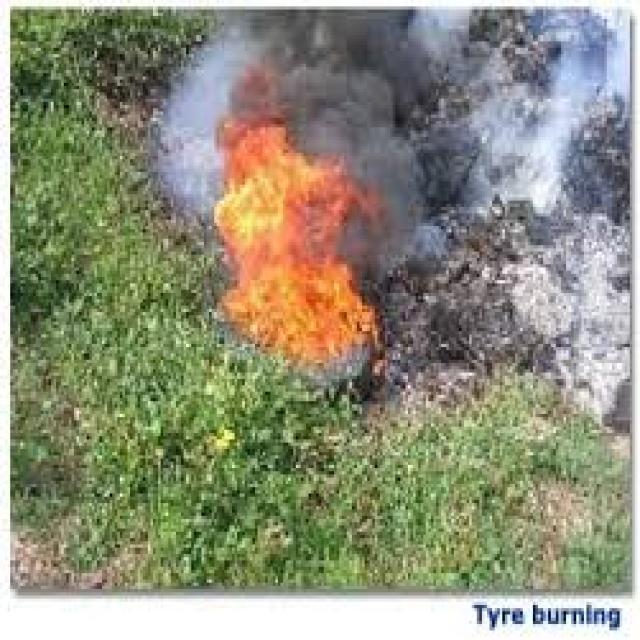Fire: (221, 125, 358, 356)
Smoke: (366, 13, 624, 233), (175, 13, 363, 119)
